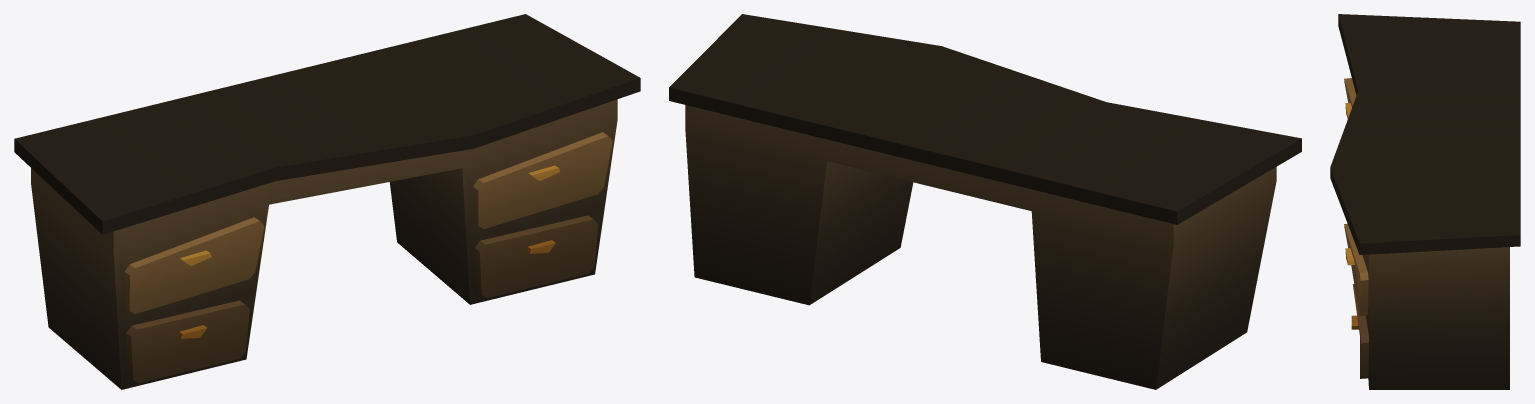
The model's file is scrivania.fbx.
3 renders of one model, left to right at view 1: azimuth 30°, elevation 25°; view 2: azimuth 150°, elevation 25°; view 3: azimuth 270°, elevation 25°, orthographic. The views are drawn at different scales.
Visible parts, largest first — view 1: SM_scrivania; view 2: SM_scrivania; view 3: SM_scrivania.
Part boxes in pixels (left/top/right/bottom): SM_scrivania: left=14, top=14, right=640, bottom=389; SM_scrivania: left=669, top=14, right=1301, bottom=389; SM_scrivania: left=1330, top=14, right=1520, bottom=389.
Size of the model in its own units: 466 by 154 by 163.
